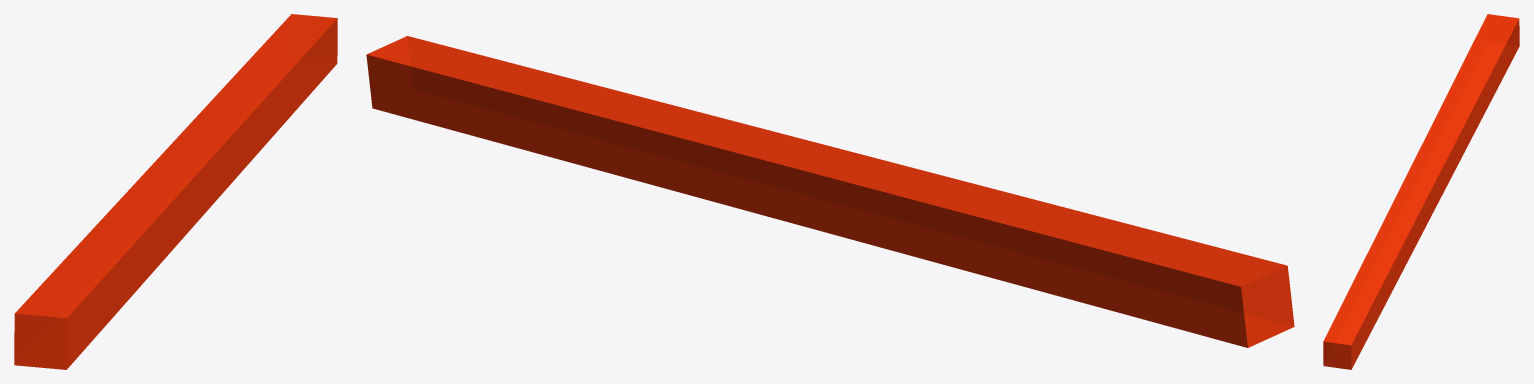
File: Event_421556567_EErechit_8.fbx
3 views of the same model, side by side, from view 1: azimuth 90°, elevation 25°; view 2: azimuth 150°, elevation 25°; view 3: azimuth 270°, elevation 25° (orthographic). The views are drawn at different scales.
Parts seen in each view (by area): view 1: Model; view 2: Model; view 3: Model.
Boxes of the visible parts, x1=… form: Model: x1=14, y1=14, x2=337, y2=369; Model: x1=366, y1=36, x2=1294, y2=347; Model: x1=1323, y1=14, x2=1519, y2=369.
Size of the model in its own units: 1.54 by 0.2745 by 0.4911.
